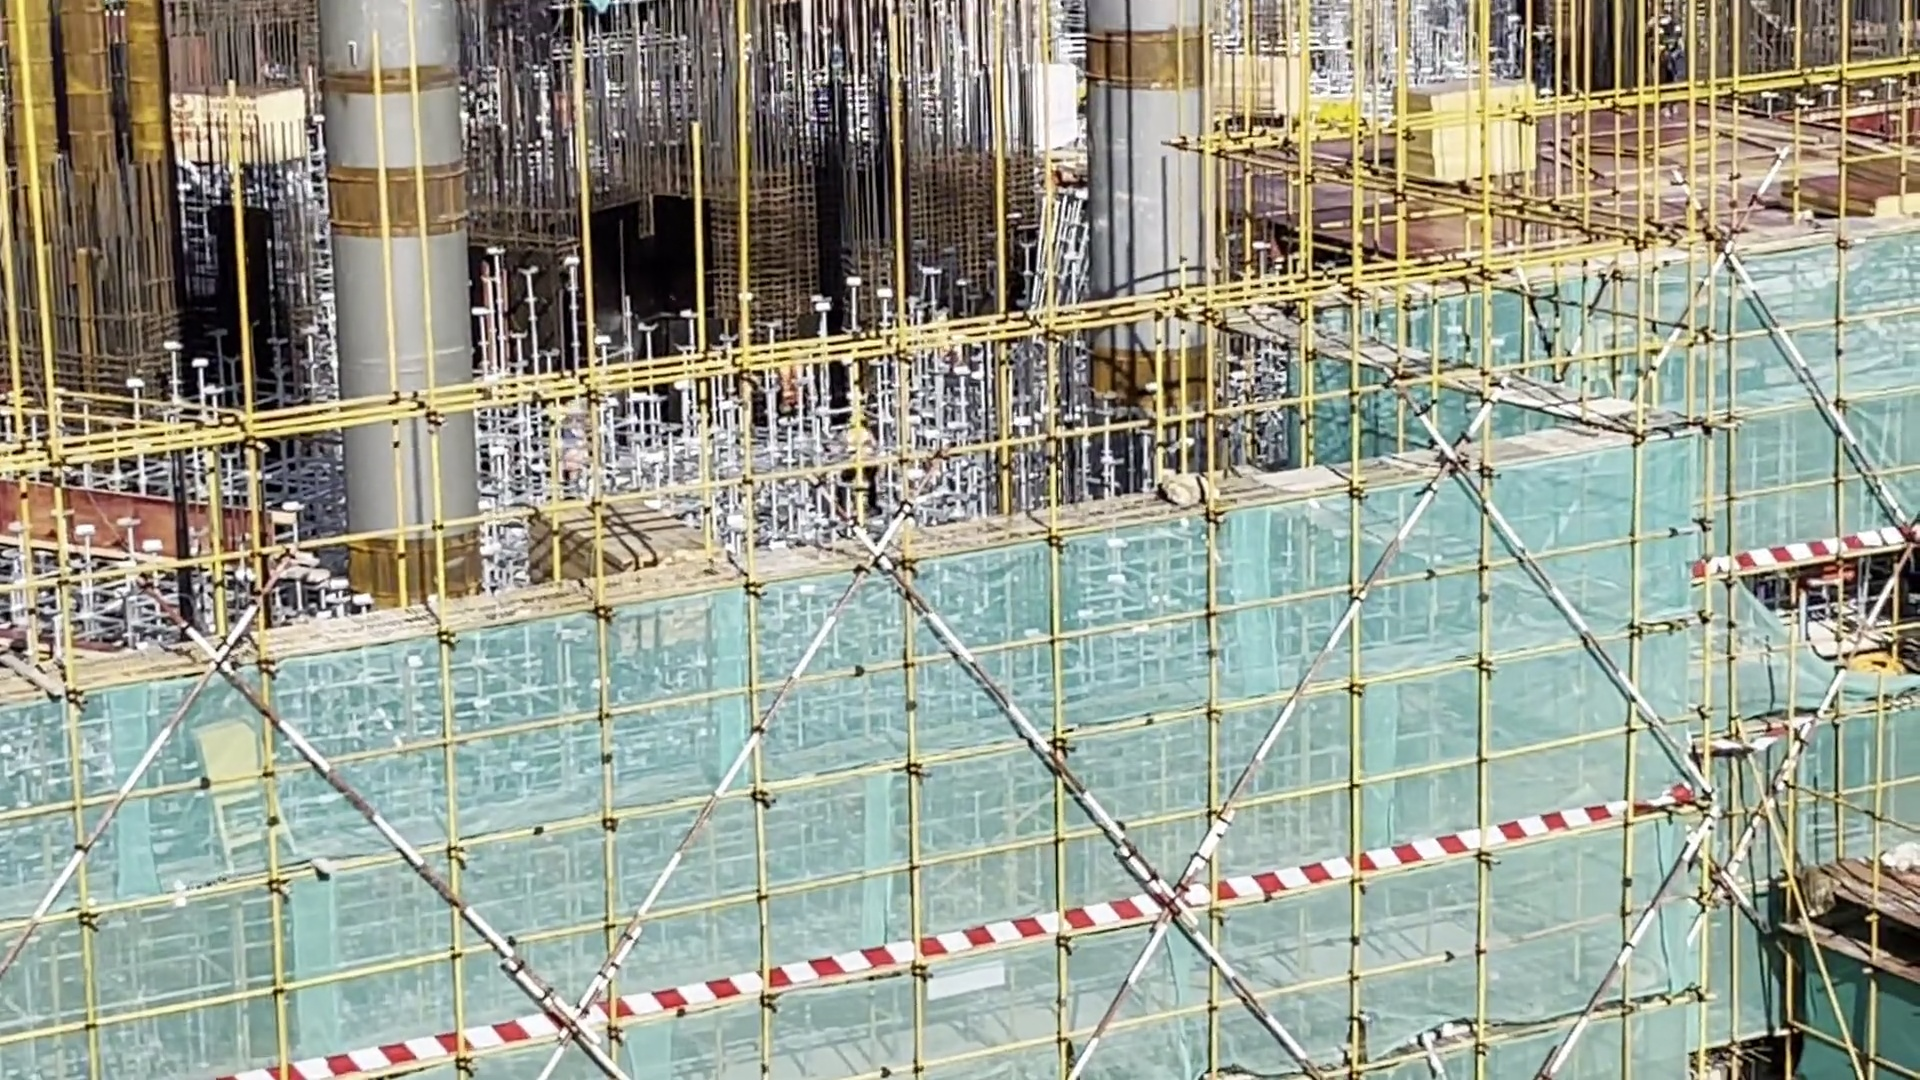ebox: (177, 721, 318, 861)
